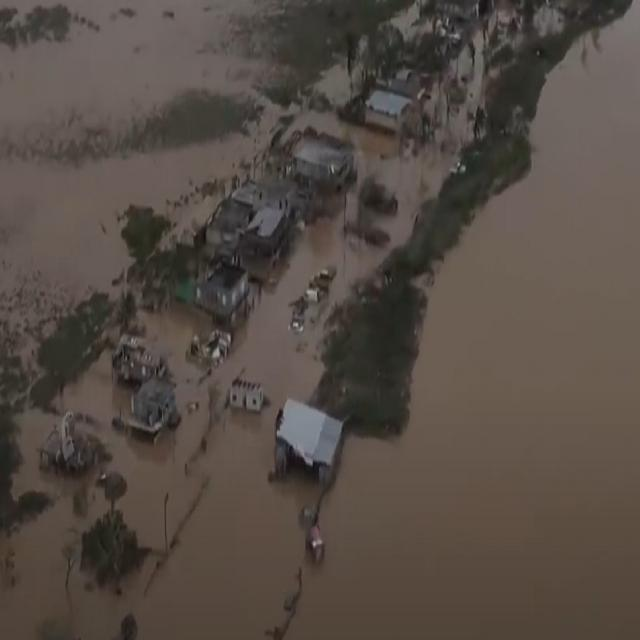flood: (309, 0, 640, 640), (139, 156, 452, 640), (0, 353, 303, 640), (0, 106, 279, 302), (0, 0, 263, 141), (142, 302, 215, 427), (287, 265, 366, 360), (315, 65, 351, 100)
house: (274, 390, 346, 483), (290, 124, 351, 203), (190, 258, 256, 318), (196, 189, 262, 247), (126, 370, 178, 436), (362, 85, 419, 134), (222, 372, 268, 418)
